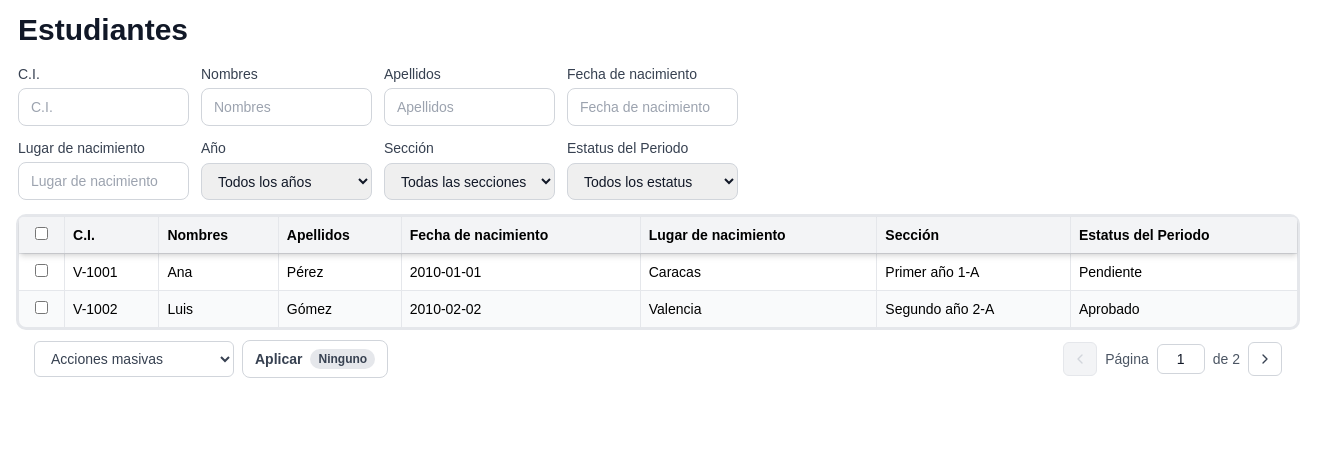
Scenario: Students page › navigates through and back from the nested student detail outlet
Click the link "V-1001".
click(95, 272)  # box [73,264,118,280]
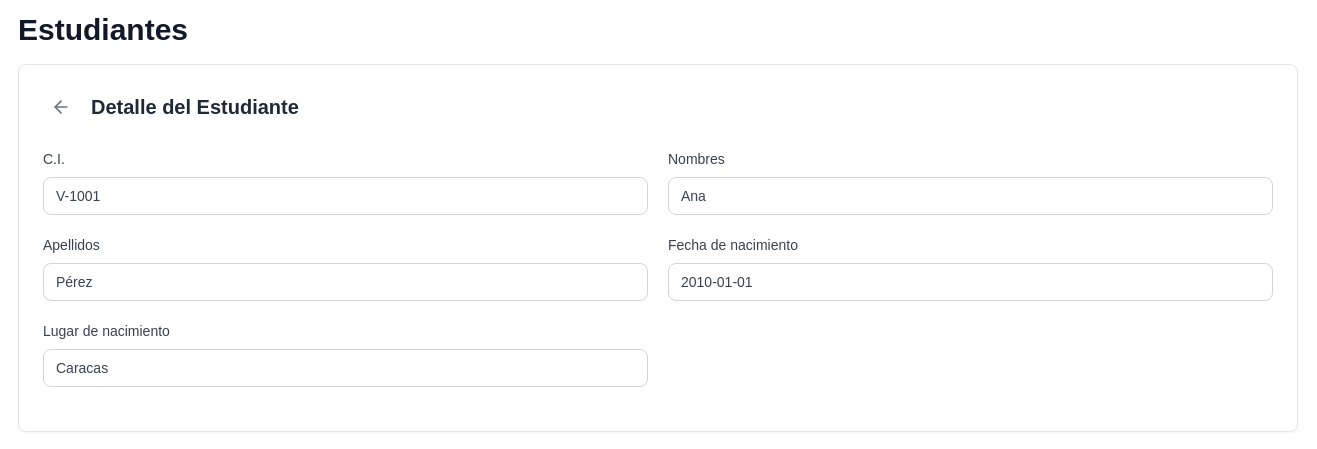
Expected: the heading "Detalle del Estudiante" is shown, [91,93,299,121]
Expected: the table is gone
Expected: the button "Aplicar" is gone
Click the link named "Volver a la lista de estudiantes".
click(61, 107)  # box [51,97,71,117]
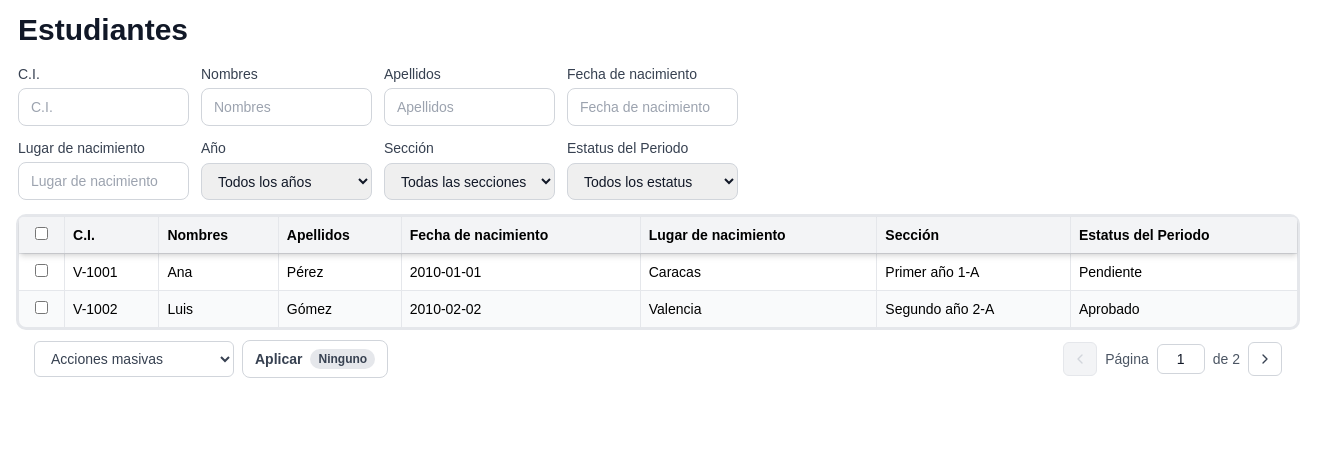
Expected: the table is shown, [18,216,1298,328]
Expected: the button "Aplicar Ninguno" is shown, [242,340,388,378]
